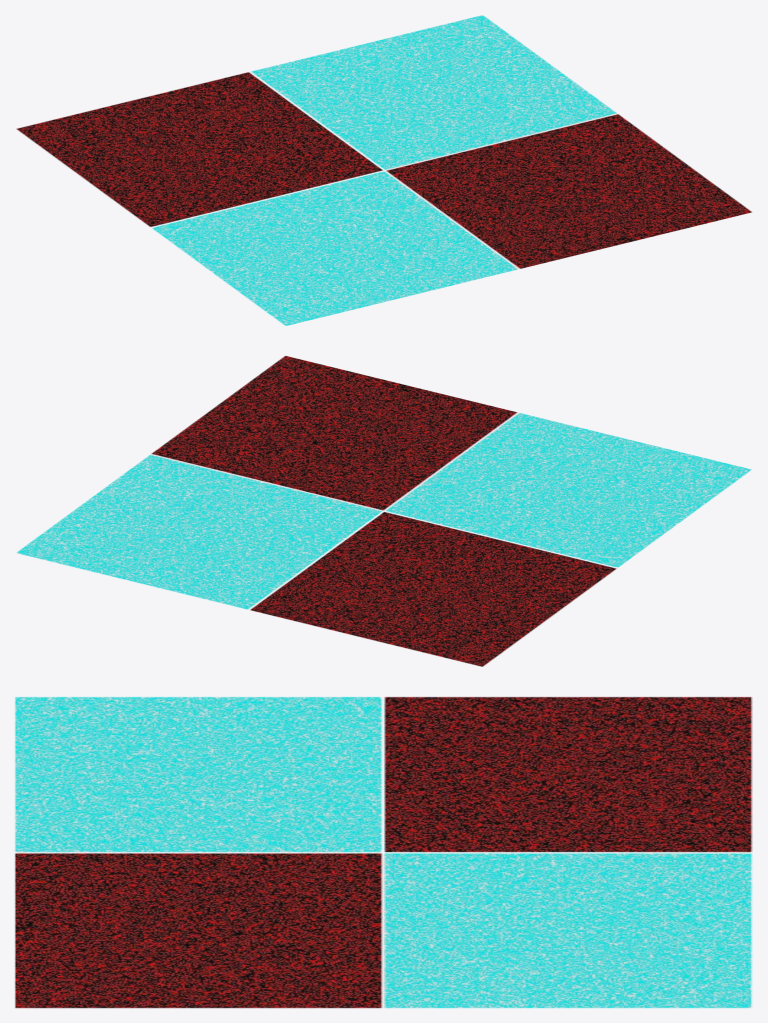
3 renders of one model, top to bottom at view 1: azimuth 30°, elevation 25°; view 2: azimuth 150°, elevation 25°; view 3: azimuth 270°, elevation 25°, orthographic. The views are drawn at different scales.
Visible parts, largest first — view 1: SM_Plane_Detailed_LOD0; view 2: SM_Plane_Detailed_LOD0; view 3: SM_Plane_Detailed_LOD0.
Boxes of the visible parts, <box> form: SM_Plane_Detailed_LOD0: <box>16,15,751,325</box>; SM_Plane_Detailed_LOD0: <box>16,356,751,666</box>; SM_Plane_Detailed_LOD0: <box>15,697,752,1008</box>.
Bounding box in the file's own units: 1 × 0 × 1.
1 material, 1 textured.
